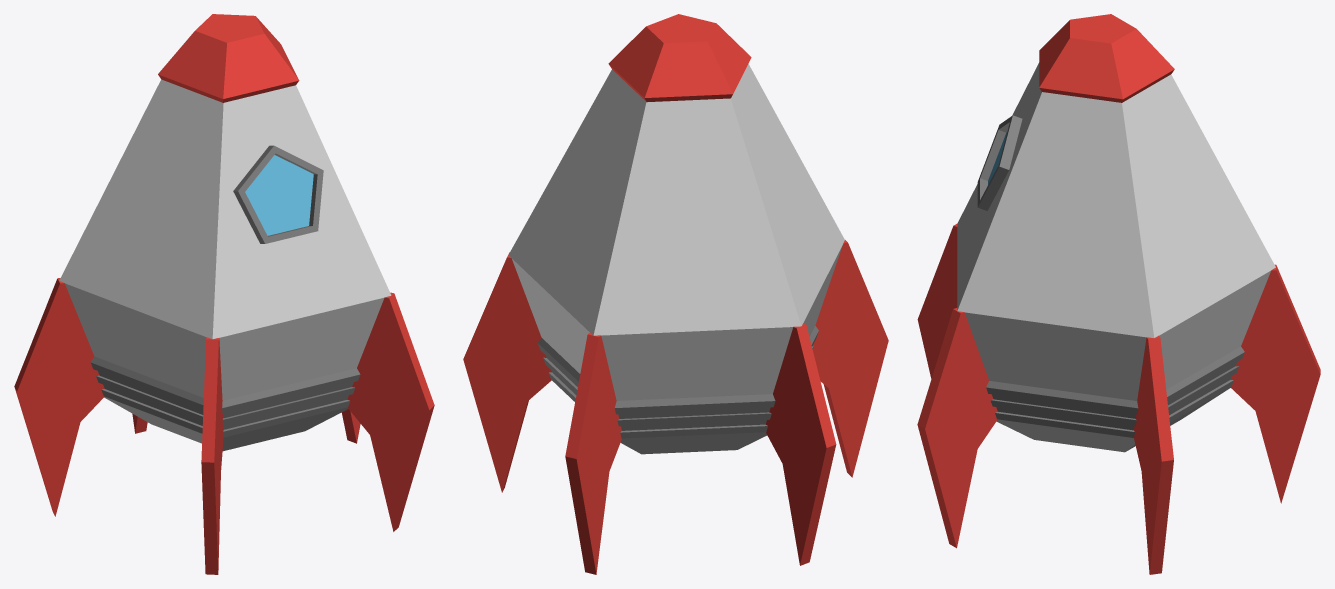
File: RocketRed.fbx
3 renders of one model, left to right at view 1: azimuth 30°, elevation 25°; view 2: azimuth 150°, elevation 25°; view 3: azimuth 270°, elevation 25°, orthographic.
Parts seen in each view (by area): view 1: Rocket; view 2: Rocket; view 3: Rocket.
Boxes of the visible parts, x1,y1,x2,y2 form: Rocket: (14,14,434,574); Rocket: (463,14,888,574); Rocket: (917,14,1320,574).
Bounding box in the file's own units: 327 × 402 × 311.
